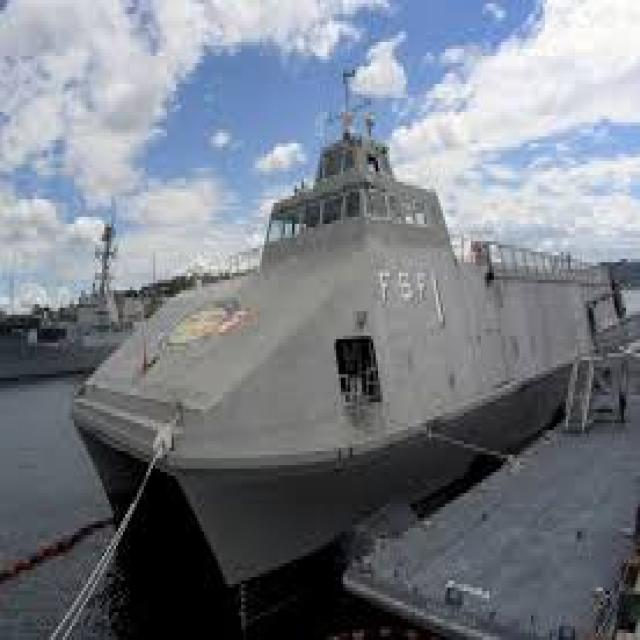navalvessels: (83, 123, 622, 572)
